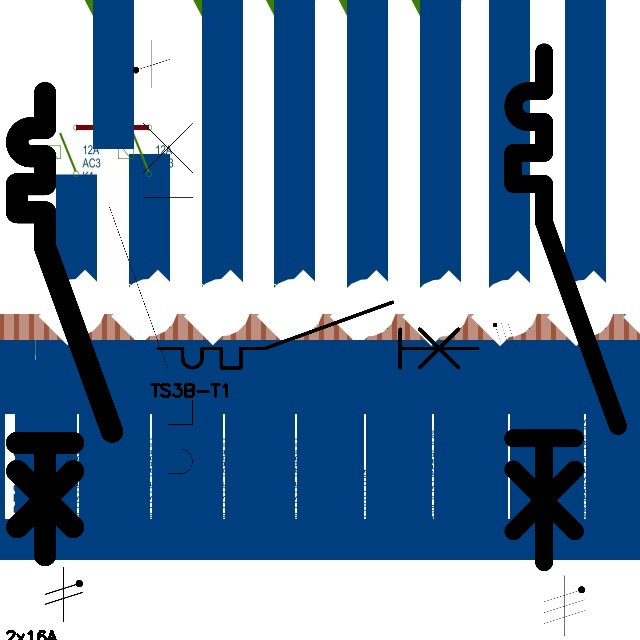interruptor_termomagnetico: (500, 39, 631, 575), (5, 81, 124, 567), (99, 88, 203, 515), (150, 294, 486, 376)
